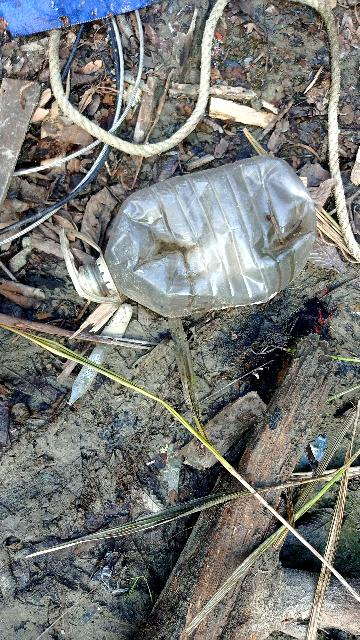bottle: (95, 155, 327, 314)
